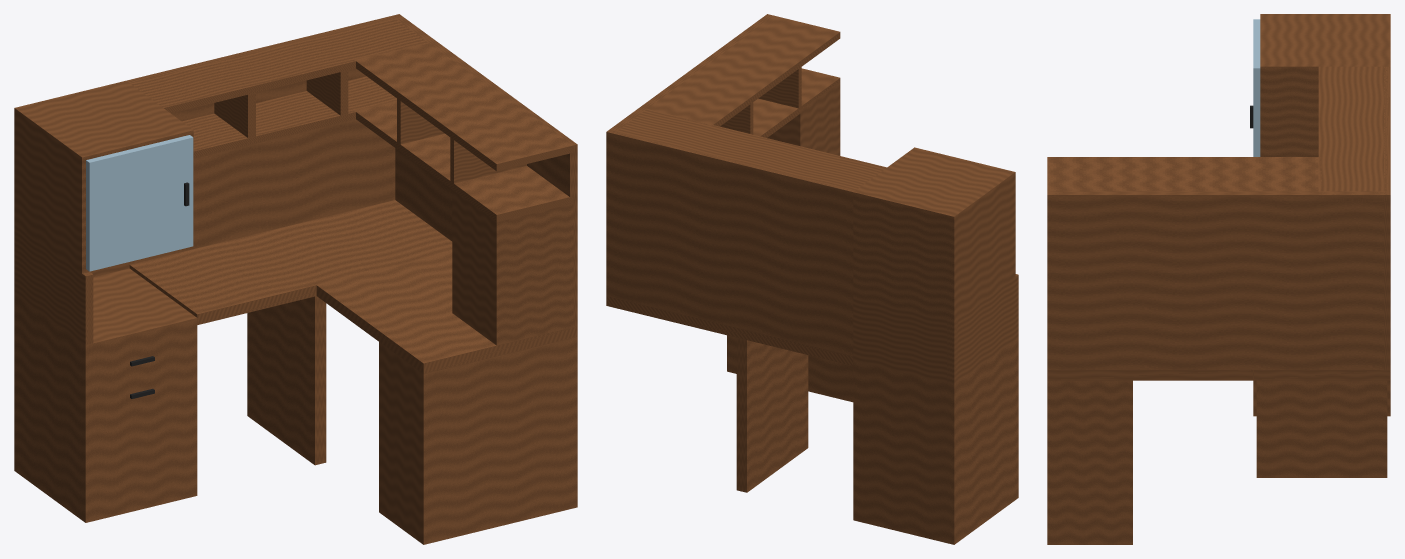
3 renders of one model, left to right at view 1: azimuth 30°, elevation 25°; view 2: azimuth 150°, elevation 25°; view 3: azimuth 270°, elevation 25°, orthographic. The views are drawn at different scales.
Visible parts, largest first — view 1: 1 left_drawer_cabinet, 12 right_lower_shelf_unit, 13 left_hutch_backboard, 9 left_desktop, 6 glass_cabinet_body, 23 right_upper_end_shelf_unit, 10 right_desktop, 20 right_hutch_top_shelf, 7 glass_cabinet_door, 11 corner_support_panel, 16 left_hutch_top_shelf, 19 right_hutch_bottom_shelf (+7 smaller); view 2: 13 left_hutch_backboard, 1 left_drawer_cabinet, 6 glass_cabinet_body, 11 corner_support_panel, 20 right_hutch_top_shelf, 16 left_hutch_top_shelf, 4 printer_stand_back, 5 printer_stand_left_panel, 23 right_upper_end_shelf_unit, 9 left_desktop, 19 right_hutch_bottom_shelf, 12 right_lower_shelf_unit (+3 smaller); view 3: 14 right_hutch_backboard, 12 right_lower_shelf_unit, 11 corner_support_panel, 6 glass_cabinet_body, 20 right_hutch_top_shelf, 16 left_hutch_top_shelf, 10 right_desktop, 13 left_hutch_backboard, 9 left_desktop, 7 glass_cabinet_door.
Part boxes in pixels (x1=…): 1 left_drawer_cabinet: x1=14, y1=268, x2=197, y2=522; 12 right_lower_shelf_unit: x1=379, y1=337, x2=577, y2=544; 13 left_hutch_backboard: x1=126, y1=14, x2=402, y2=264; 9 left_desktop: x1=129, y1=200, x2=452, y2=324; 6 glass_cabinet_body: x1=14, y1=80, x2=193, y2=273; 23 right_upper_end_shelf_unit: x1=452, y1=190, x2=573, y2=345; 10 right_desktop: x1=316, y1=252, x2=577, y2=374; 20 right_hutch_top_shelf: x1=354, y1=42, x2=573, y2=171; 7 glass_cabinet_door: x1=86, y1=135, x2=193, y2=271; 11 corner_support_panel: x1=247, y1=296, x2=326, y2=465; 16 left_hutch_top_shelf: x1=130, y1=17, x2=433, y2=113; 19 right_hutch_bottom_shelf: x1=354, y1=100, x2=573, y2=221; 13 left_hutch_backboard: x1=606, y1=129, x2=855, y2=355; 1 left_drawer_cabinet: x1=853, y1=337, x2=1018, y2=544; 6 glass_cabinet_body: x1=853, y1=147, x2=1015, y2=321; 11 corner_support_panel: x1=736, y1=338, x2=808, y2=492; 20 right_hutch_top_shelf: x1=647, y1=15, x2=840, y2=126; 16 left_hutch_top_shelf: x1=610, y1=109, x2=886, y2=190; 4 printer_stand_back: x1=853, y1=297, x2=957, y2=383; 5 printer_stand_left_panel: x1=947, y1=274, x2=1018, y2=383; 23 right_upper_end_shelf_unit: x1=767, y1=82, x2=840, y2=155; 9 left_desktop: x1=606, y1=296, x2=853, y2=365; 19 right_hutch_bottom_shelf: x1=753, y1=68, x2=840, y2=137; 12 right_lower_shelf_unit: x1=727, y1=335, x2=853, y2=402; 14 right_hutch_backboard: x1=1047, y1=191, x2=1383, y2=369; 12 right_lower_shelf_unit: x1=1047, y1=380, x2=1132, y2=544; 11 corner_support_panel: x1=1256, y1=380, x2=1387, y2=477; 6 glass_cabinet_body: x1=1260, y1=14, x2=1390, y2=156; 20 right_hutch_top_shelf: x1=1047, y1=157, x2=1321, y2=191; 16 left_hutch_top_shelf: x1=1318, y1=66, x2=1387, y2=201; 10 right_desktop: x1=1047, y1=370, x2=1253, y2=380; 13 left_hutch_backboard: x1=1384, y1=66, x2=1390, y2=369; 9 left_desktop: x1=1253, y1=370, x2=1390, y2=380; 7 glass_cabinet_door: x1=1253, y1=19, x2=1260, y2=156.
Bounding box in the file's own units: 1.11 × 1 × 0.89.
3 materials, 1 textured.
